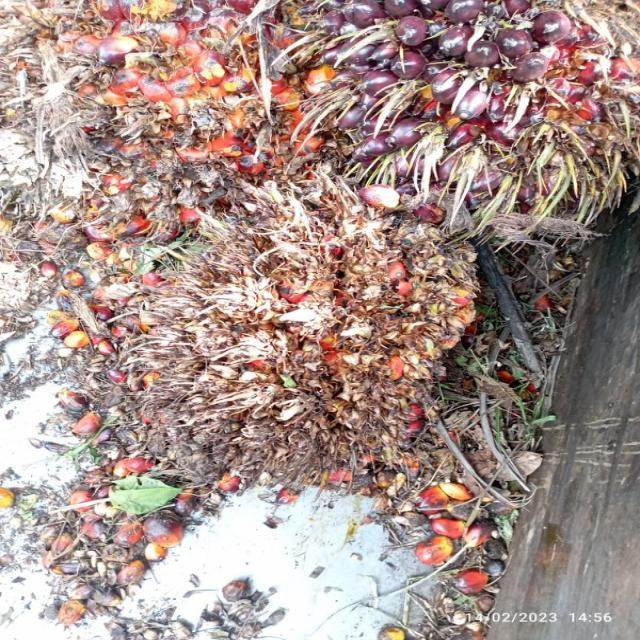fraksi 4: (81, 176, 503, 477)
